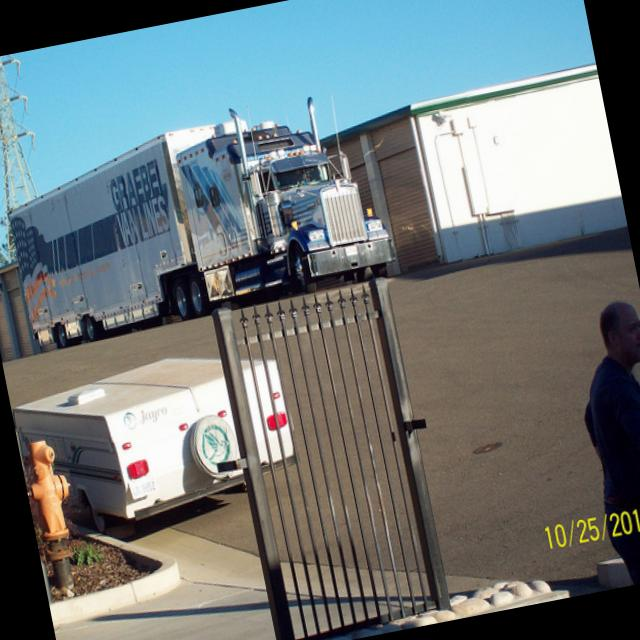Vehicle: (0, 81, 401, 354)
